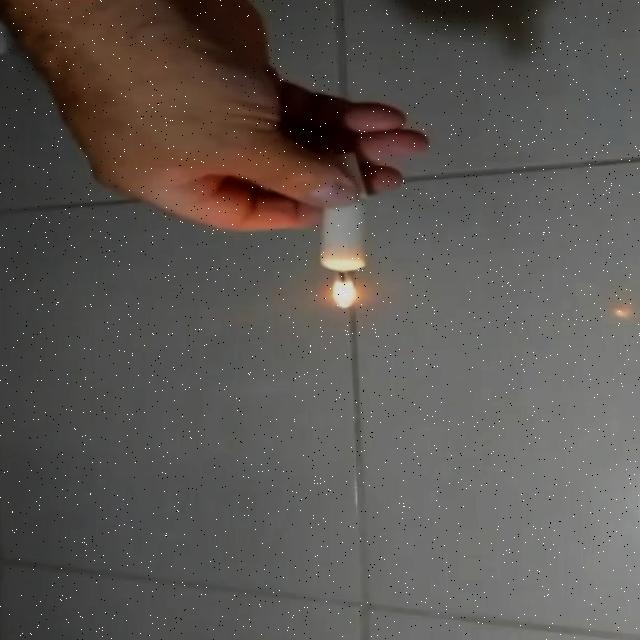fire: (326, 271, 366, 313)
